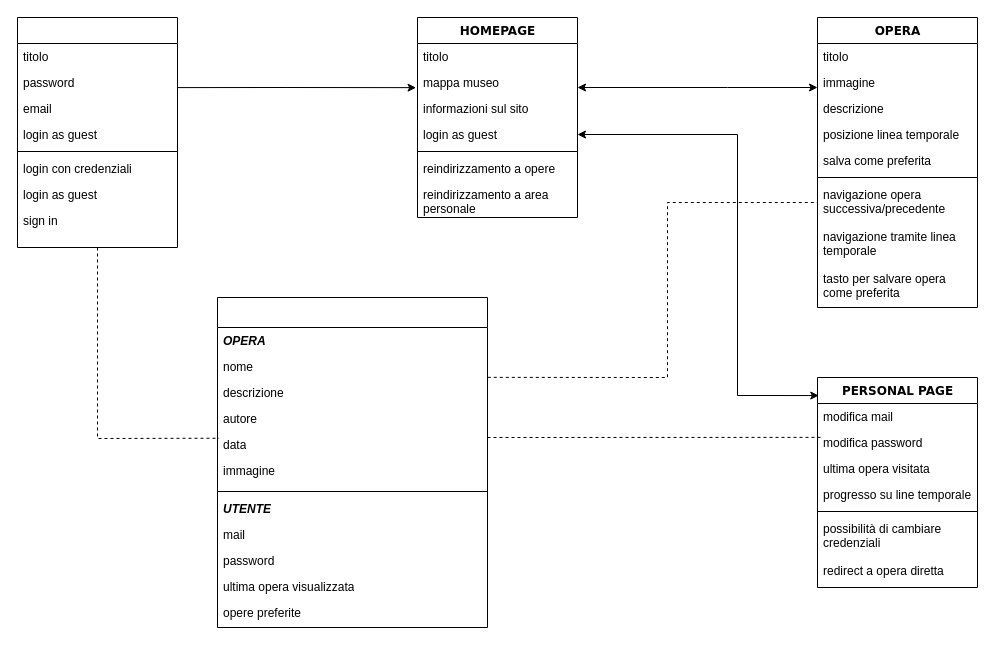
The diagram is 995 pixels wide and 646 high, and some of its shapes have lost their labels. Each missing label, with the box of its shape:
DATABASE: (216, 296, 488, 628)
LANDING PAGE: (16, 16, 178, 248)
